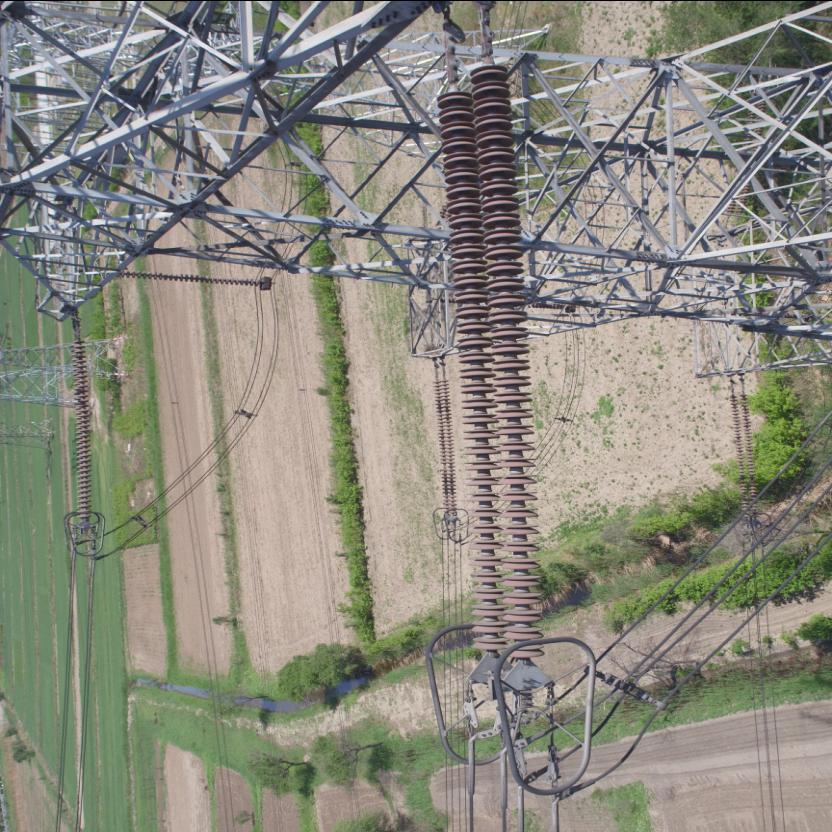insulator: (430, 30, 548, 674), (64, 329, 90, 523)
